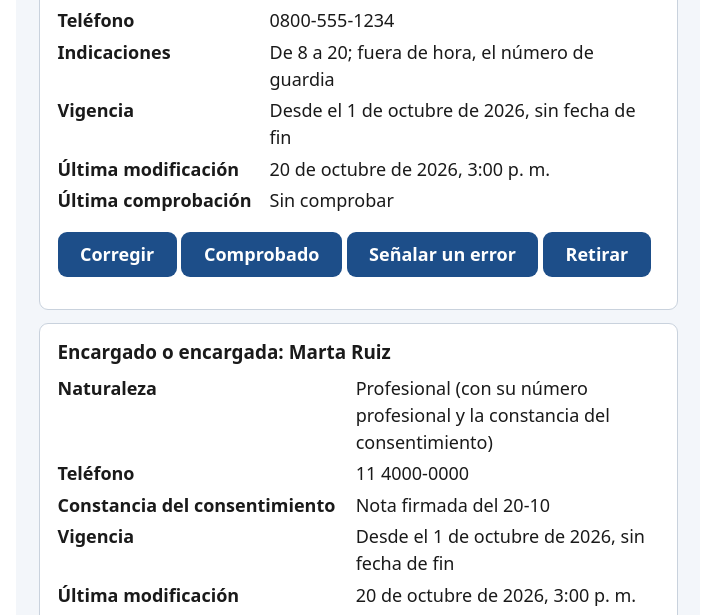
Test: página /contactos/gestion › un 422 dice qué campo revisar y por qué; un 409 contacto_terminado lo explica y recarga la lista
The image size is (717, 615).
(page scrolled)
Click the button "Corregir". click: (117,255)
box: [58,232,177,277]
(page scrolled)
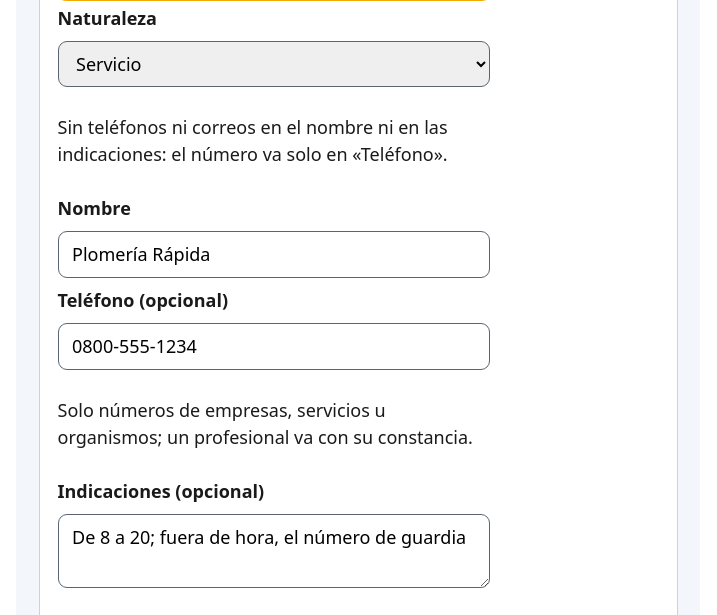
Replace the text in the field labelled "Nombre" with "Llamar al 11 2345 6789". click: (274,255)
box: [58,232,490,278]
(page scrolled)
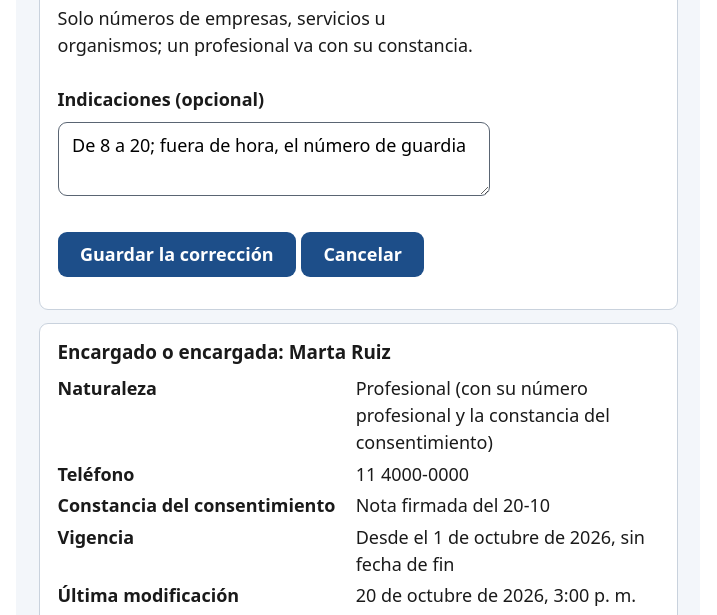
Click the button "Guardar la corrección". click: (177,255)
box: [58,232,296,278]
(page scrolled)
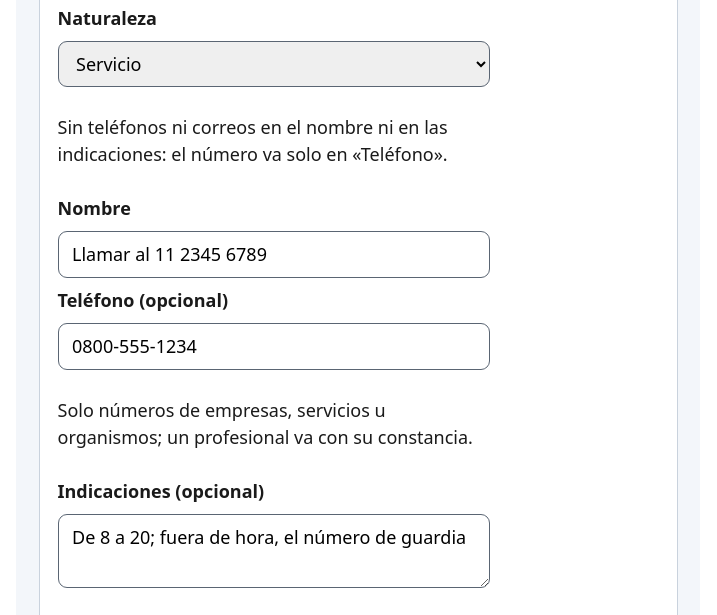
Replace the text in the field labelled "Nombre" with "Plomería Rápida SRL". click: (274,255)
box: [58,232,490,278]
(page scrolled)
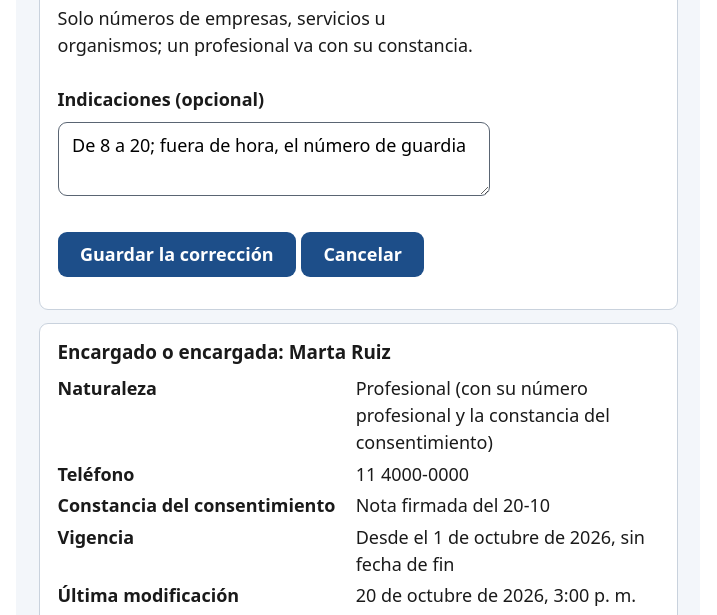
Click the button "Guardar la corrección". click: (177,255)
box: [58,232,296,278]
(page scrolled)
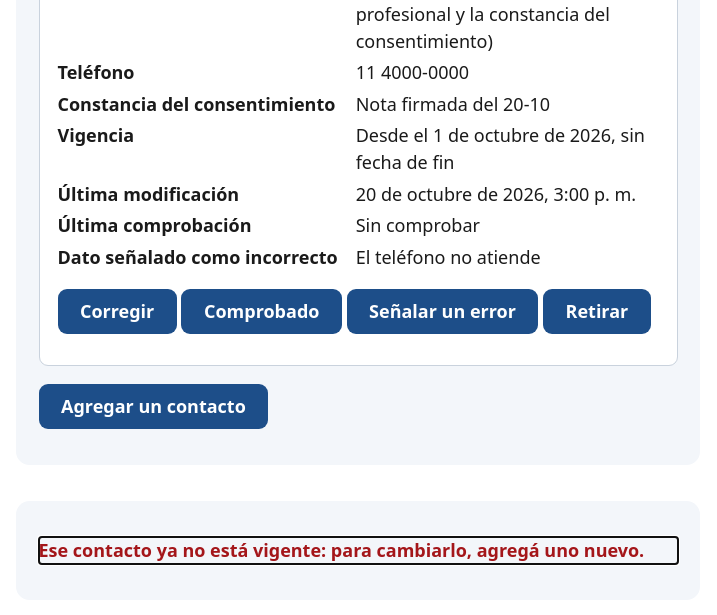
expect the text "Ese contacto ya no está vigente: para cambiarlo, agregá uno nuevo." is shown: met, box [38,538,678,564]
expect the button "Guardar la corrección" is gone: met
